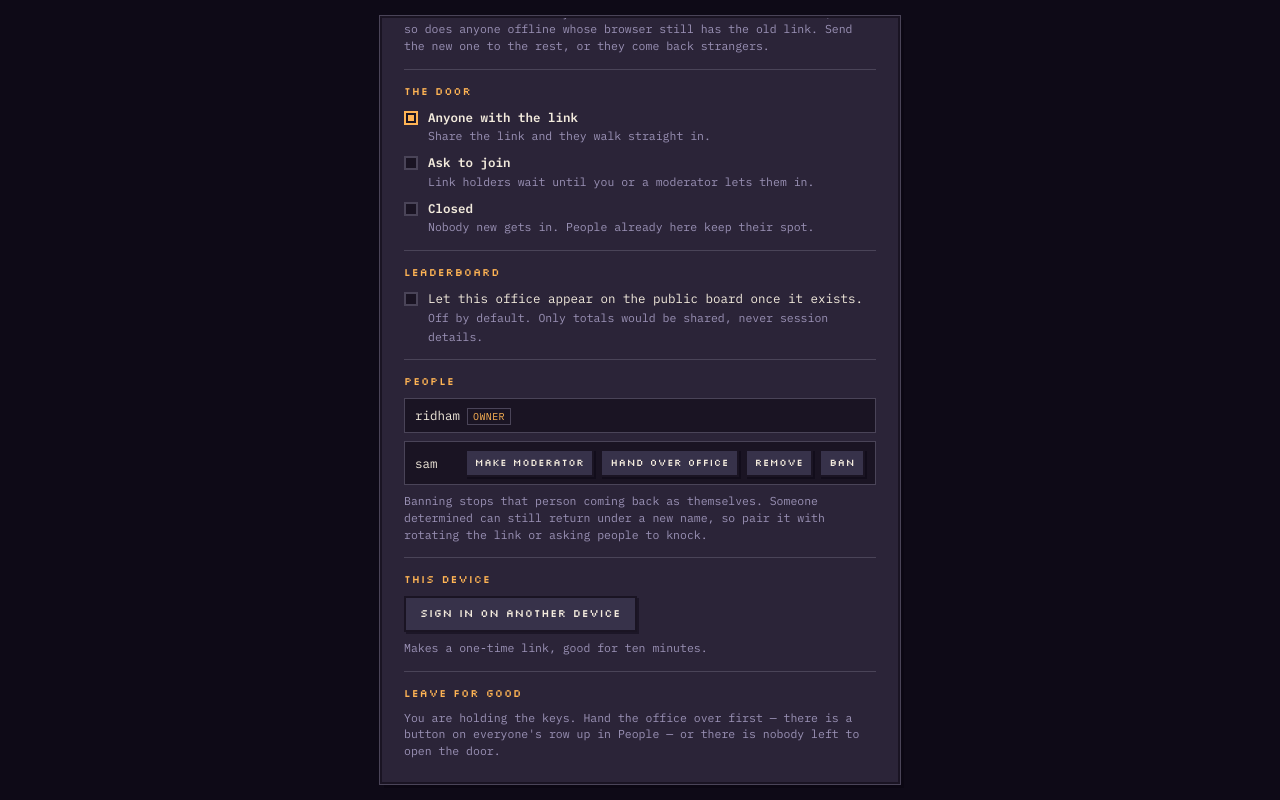
Test: SettingsPanel › when the office says no › shows a refusal beside the person it was about
(page scrolled)
Click the button with aria-label "Make moderator: sam": (530, 463) [465,449,594,477]
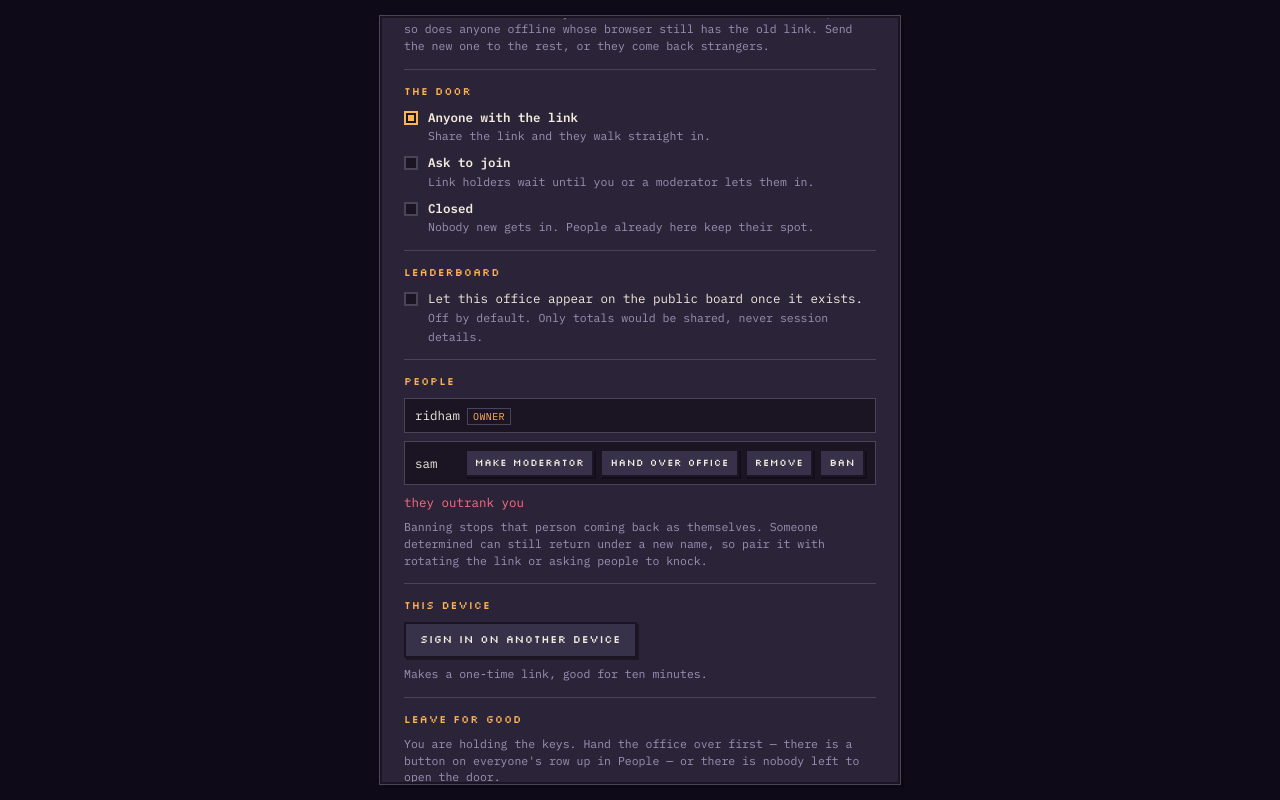
Expected: the message reads "they outrank you", [404,494,524,510]
